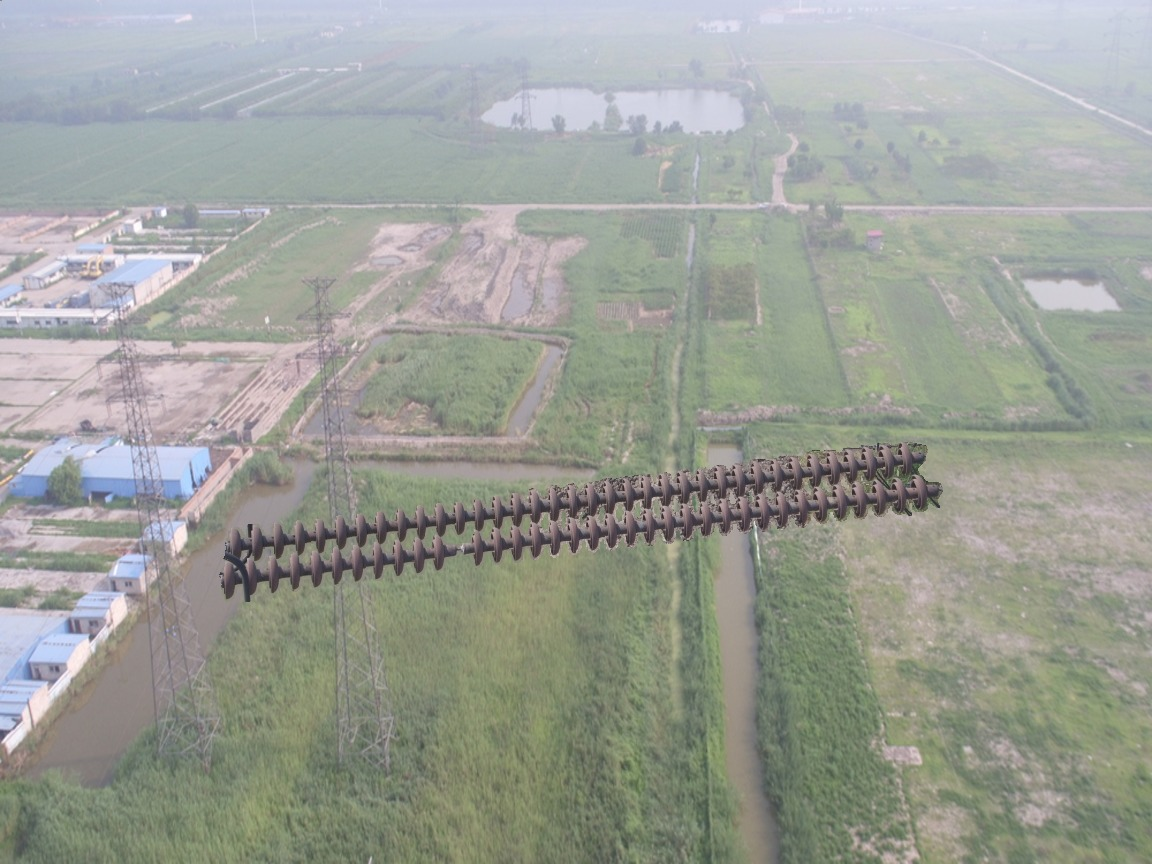defect: (426, 529, 491, 572)
